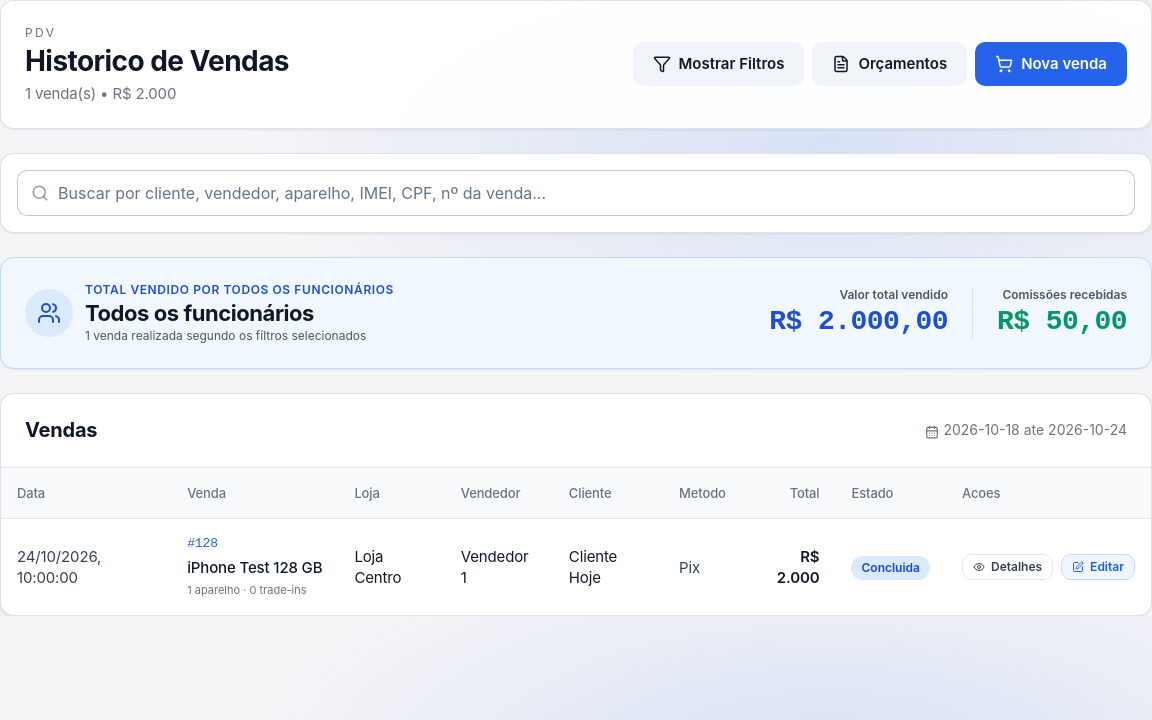
Test case: PDVHistory › follows the permission matrix for a manager: edit and cancel only when granted
Right-click the text "Cliente Hoje" at (576, 567), box [1,519,1151,615]
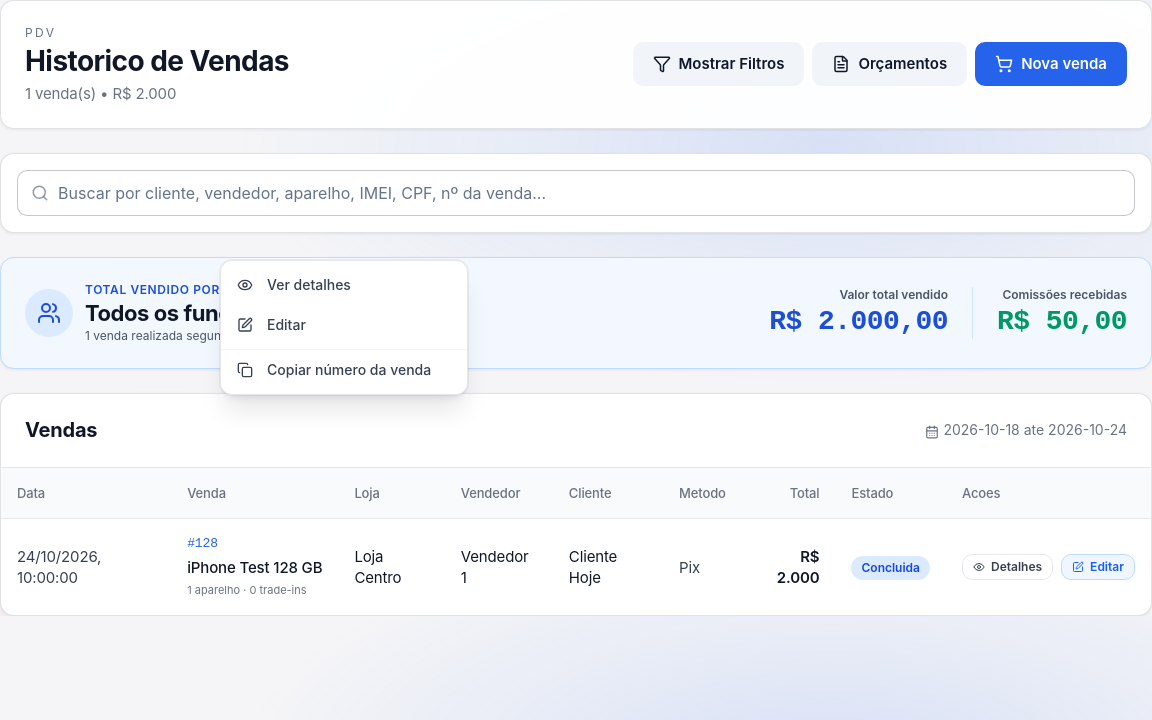
expect the menu item "Editar" is shown: met, box [221,305,467,345]
